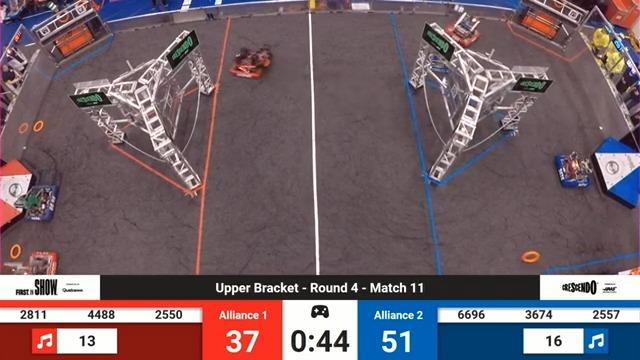robot: (550, 148, 601, 197), (231, 40, 277, 82), (16, 184, 59, 226), (444, 11, 484, 48), (13, 247, 61, 276)
